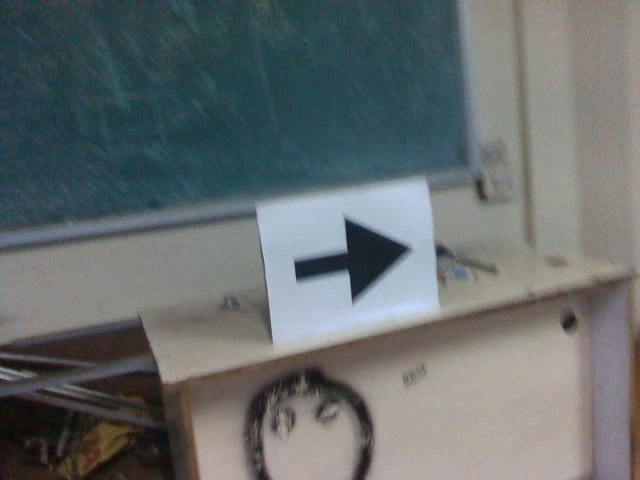Right: (282, 210, 414, 306)
